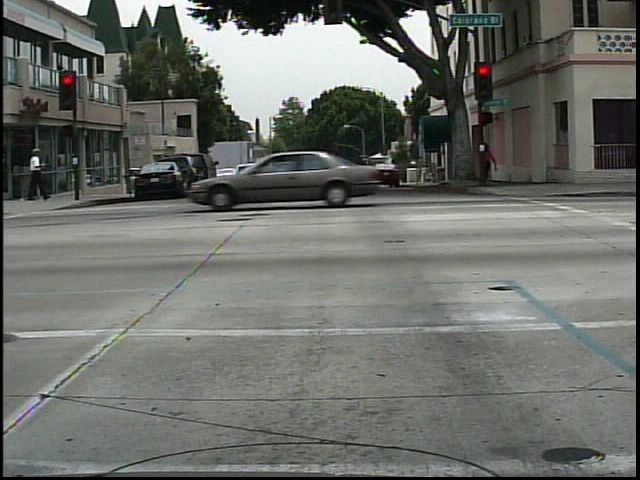person: (23, 142, 51, 207), (472, 140, 502, 193)
